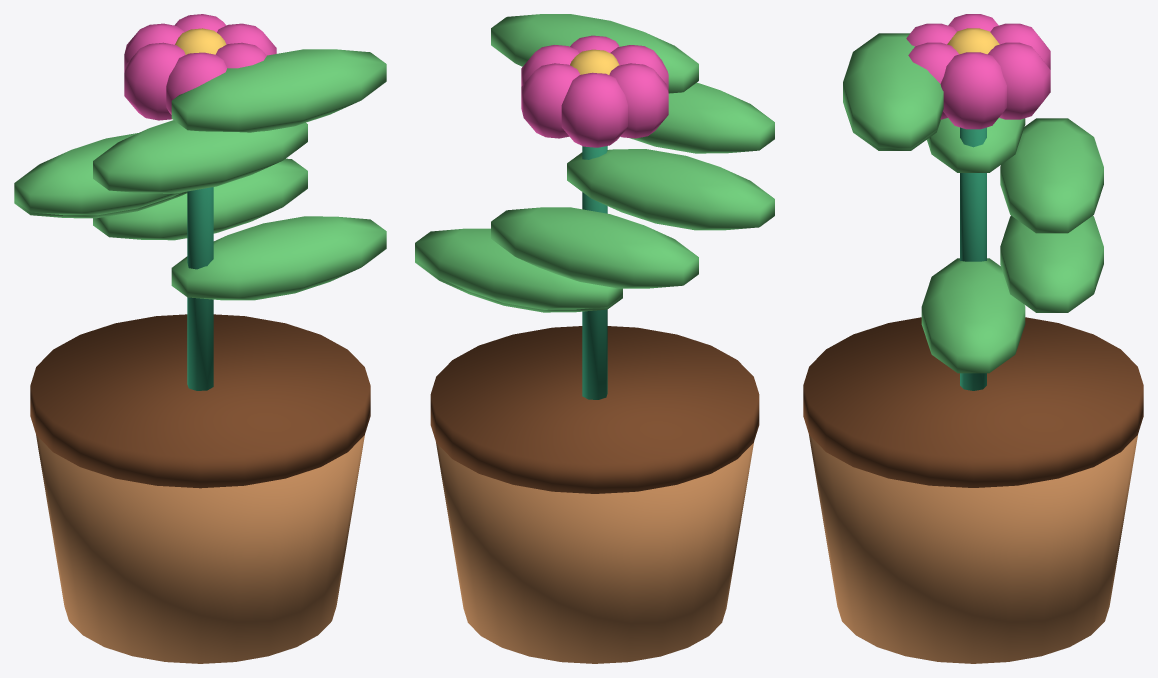
Rendered from potted_plant.glb.
3 views of the same model, side by side, from view 1: azimuth 30°, elevation 25°; view 2: azimuth 150°, elevation 25°; view 3: azimuth 270°, elevation 25° (orthographic). The views are drawn at different scales.
Parts seen in each view (by area): view 1: potted_plant; view 2: potted_plant; view 3: potted_plant.
Boxes of the visible parts, box(x1,y1,x2,y2) form: potted_plant: box(14, 14, 386, 663); potted_plant: box(415, 14, 774, 663); potted_plant: box(803, 14, 1143, 663).
Size of the model in its own units: 0.3626 by 0.56 by 0.3.
